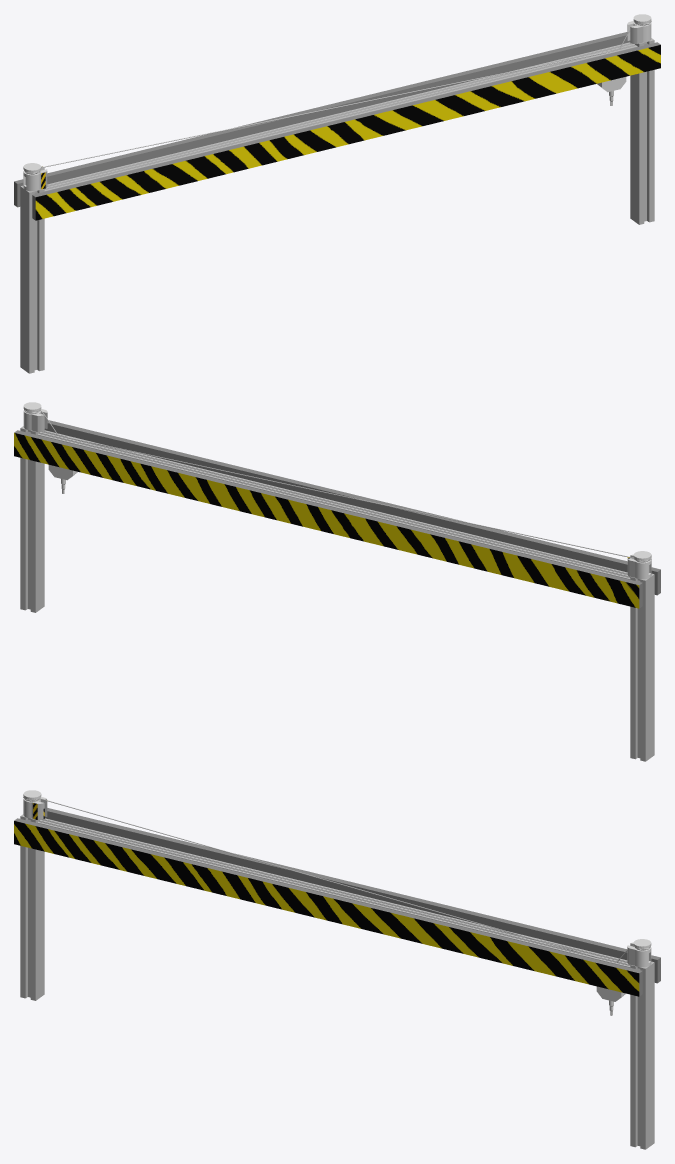
File: Electrical Hazard Materialed.fbx
3 views of the same model, one above another, from view 1: azimuth 30°, elevation 25°; view 2: azimuth 150°, elevation 25°; view 3: azimuth 330°, elevation 25° (orthographic).
Parts seen in each view (by area): view 1: Hazard, Columns, Rails, Top Thingy, Wrapped Cable; view 2: Hazard, Columns, Rails, Top Thingy, Wrapped Cable; view 3: Hazard, Columns, Rails, Top Thingy, Wrapped Cable.
Part boxes in pixels (x1,y1,x2,y2): Hazard: [14, 32, 660, 220]; Columns: [20, 38, 654, 373]; Rails: [44, 42, 637, 191]; Top Thingy: [23, 14, 651, 191]; Wrapped Cable: [24, 21, 651, 174]; Hazard: [14, 420, 660, 608]; Columns: [20, 426, 654, 761]; Rails: [37, 430, 630, 579]; Top Thingy: [23, 402, 651, 579]; Wrapped Cable: [24, 410, 651, 562]; Hazard: [14, 808, 660, 996]; Columns: [20, 814, 654, 1149]; Rails: [37, 818, 630, 967]; Top Thingy: [23, 790, 651, 967]; Wrapped Cable: [23, 797, 650, 962].
Bounding box in the file's own units: 2061 × 636 × 124.
